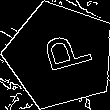P_W: (29, 31, 91, 81)
